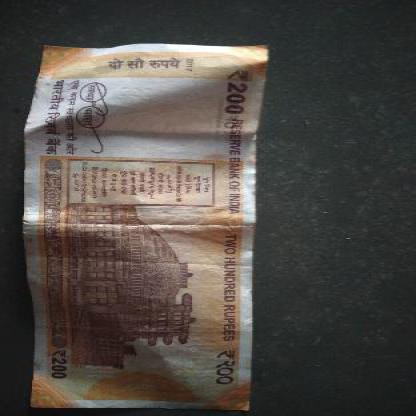New200Back: (27, 48, 253, 412)
